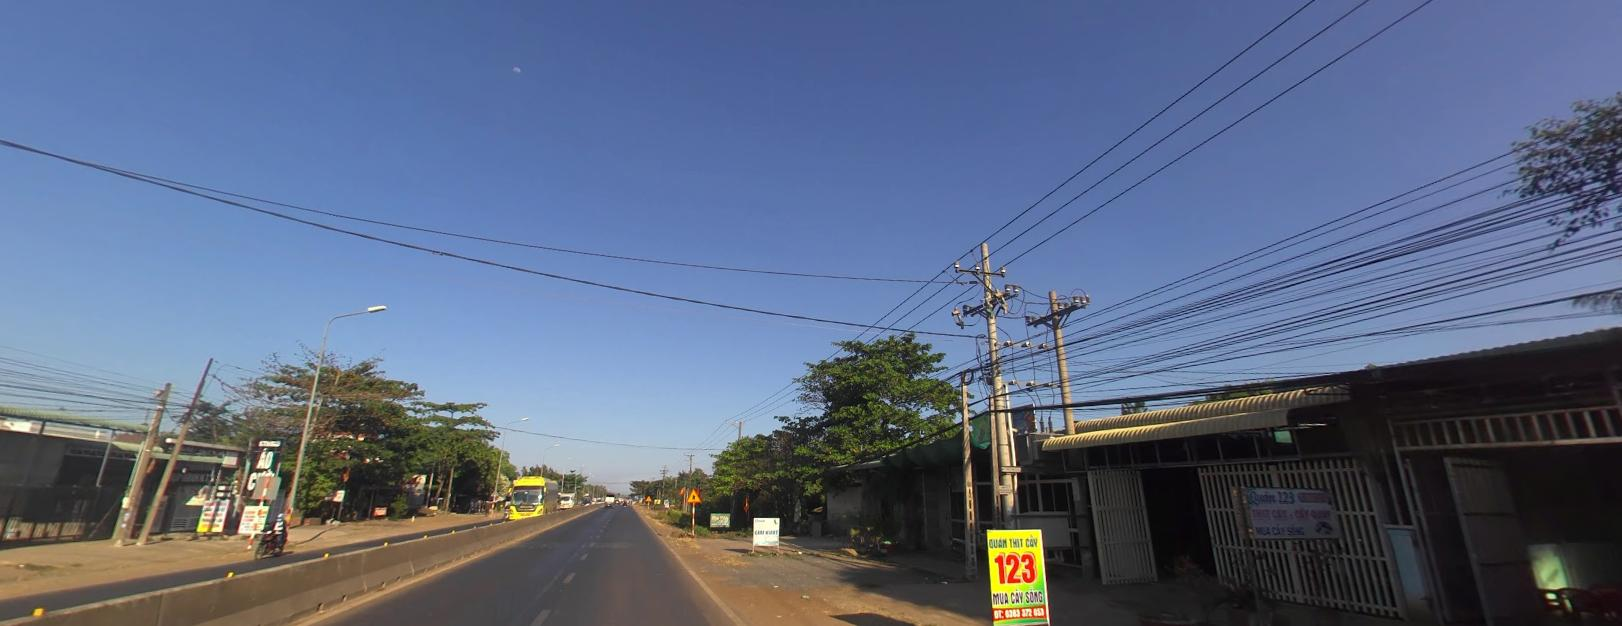Nguy hiem: (686, 487, 701, 501), (645, 494, 652, 500)
